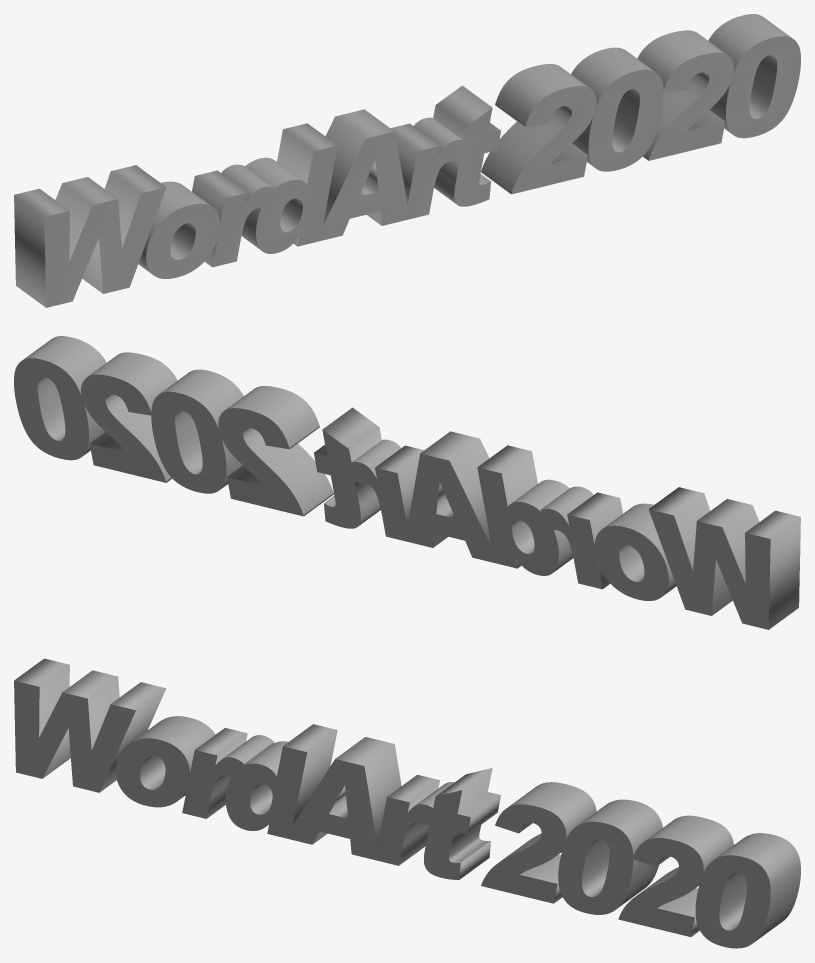
File: wordart.glb
The picture shows the model from 3 angles, top to bottom: view 1: azimuth 30°, elevation 25°; view 2: azimuth 150°, elevation 25°; view 3: azimuth 330°, elevation 25°; orthographic projection.
Visible parts, largest first — view 1: Text; view 2: Text; view 3: Text.
Boxes of the visible parts, x1,y1,x2,y2 form: Text: (14,14,800,307); Text: (14,336,800,629); Text: (14,658,800,948).
Size of the model in its own units: 16.8 by 2.01 by 1.17.
Materials: 1 (1 with a texture image).
